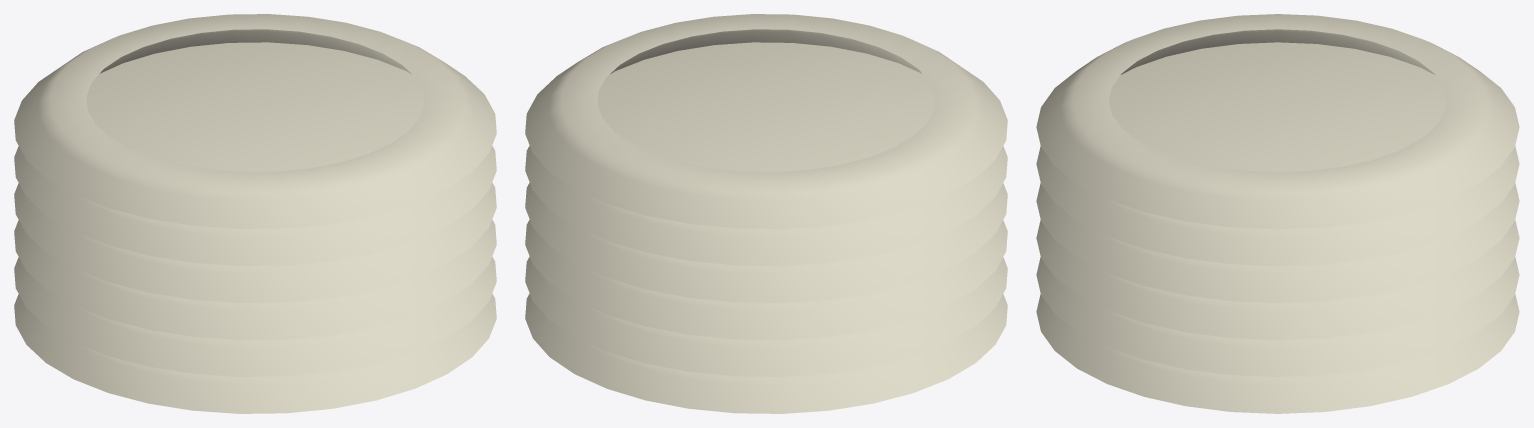
Rendered from adventurers-tavern-and-guild-hall-plate-stack-c0dd34cf__24718.glb.
3 views of the same model, side by side, from view 1: azimuth 30°, elevation 25°; view 2: azimuth 150°, elevation 25°; view 3: azimuth 270°, elevation 25° (orthographic).
Parts seen in each view (by area): view 1: plate-stack; view 2: plate-stack; view 3: plate-stack.
Part boxes in pixels (box(x1,y1,x2,y2)): plate-stack: box(14, 14, 496, 413); plate-stack: box(525, 14, 1007, 413); plate-stack: box(1036, 14, 1519, 413).
Size of the model in its own units: 0.32 by 0.17 by 0.32.
